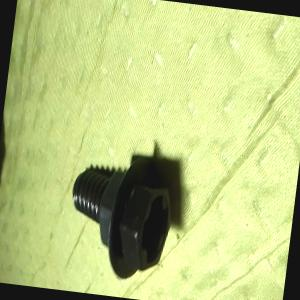parafuso: (62, 150, 178, 286)
